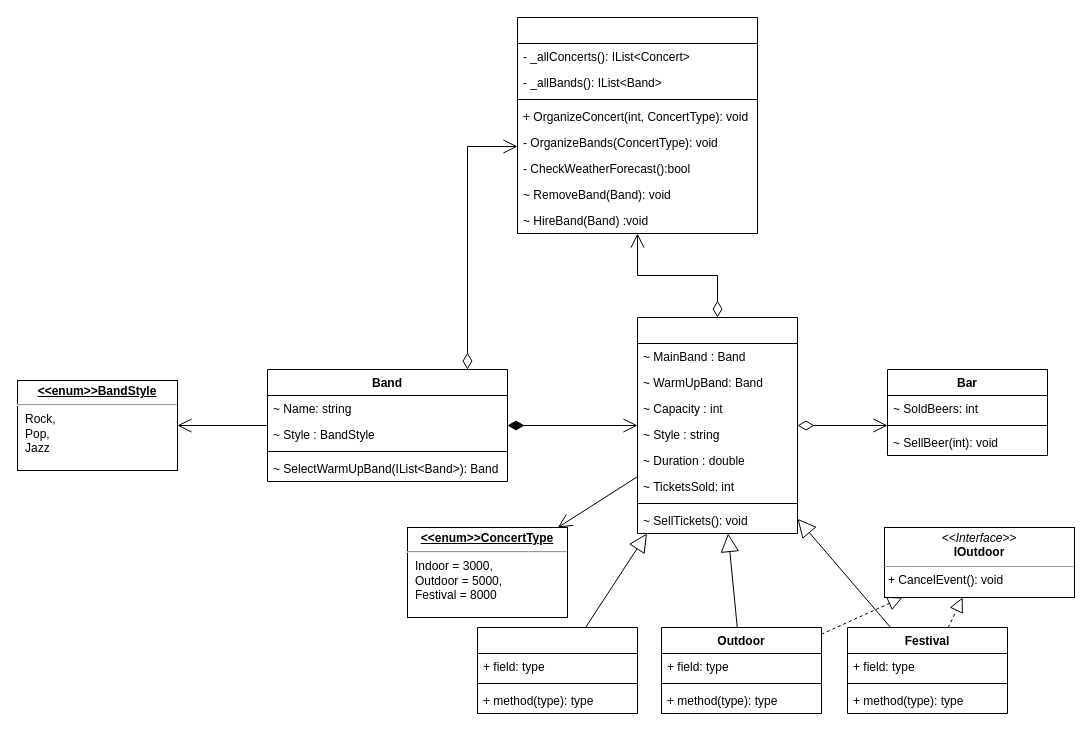
The diagram is 1092 pixels wide and 734 high, and some of its shapes have lost their labels. Each missing label, with the box of its shape:
Company: (516, 16, 758, 234)
Concert: (636, 316, 798, 534)
Indoor: (476, 626, 638, 714)
